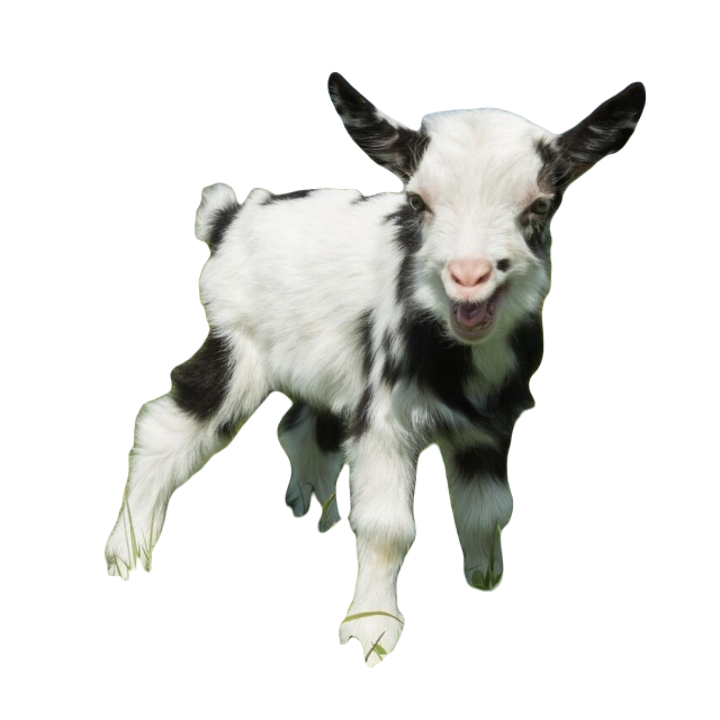Goat: (97, 71, 647, 671)
